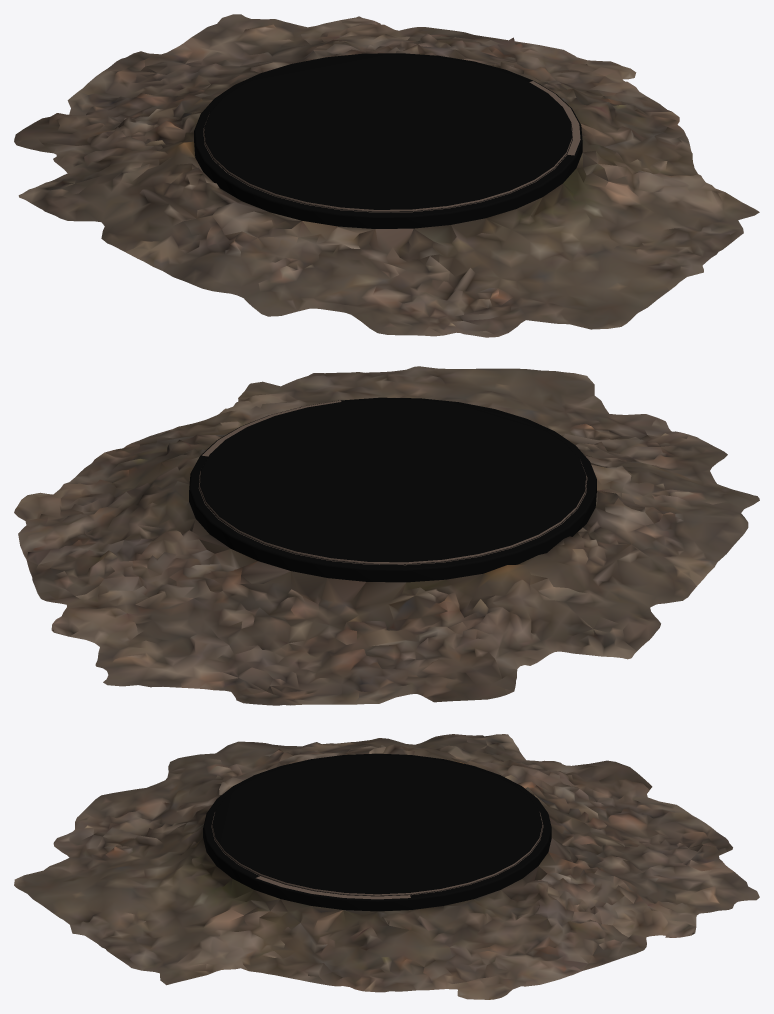
File: sm_en_Manhole_01_01.FBX
The picture shows the model from 3 angles, top to bottom: view 1: azimuth 30°, elevation 25°; view 2: azimuth 150°, elevation 25°; view 3: azimuth 270°, elevation 25°; orthographic projection. The views are drawn at different scales.
Visible parts, largest first — view 1: sm_en_Manhole_01_01_LOD0; view 2: sm_en_Manhole_01_01_LOD0; view 3: sm_en_Manhole_01_01_LOD0.
Part boxes in pixels (<box>): sm_en_Manhole_01_01_LOD0: <box>14,14,759,337</box>; sm_en_Manhole_01_01_LOD0: <box>14,366,759,705</box>; sm_en_Manhole_01_01_LOD0: <box>14,734,759,999</box>.
Size of what is drawn, in the model's own units: 161 by 195 by 14.44.
